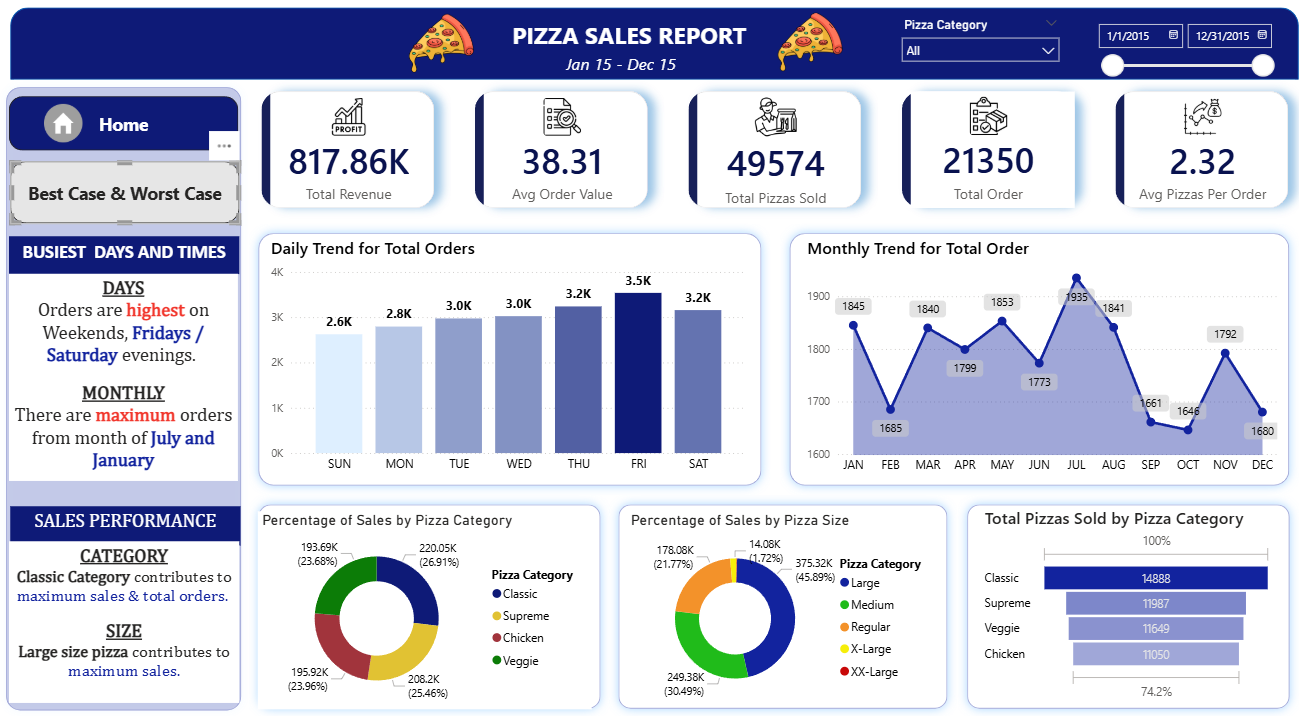

This screenshot's page, from the dashboard's own definition file:
{"tool":"powerbi","page":{"name":"Home","canvas":[1500,820],"ordinal":0},"visuals":[{"type":"cardVisual","fields":{"Data":["pizza_sales.Total Revenue","pizza_sales.Avg Order Value","pizza_sales.Total Pizzas Sold","pizza_sales.Total Order","pizza_sales.Avg Pizzas Per Order"]},"box":[276.2,80,1223.8,182.5],"z":0},{"type":"textbox","box":[12.8,578.6,262.9,45.1],"z":0,"group":"g1"},{"type":"shape","box":[12.5,8.8,1472.5,82.5],"z":1000},{"type":"textbox","box":[11.4,619.2,262.9,185.1],"z":1000,"group":"g1"},{"type":"textbox","box":[581,17.2,337.9,50],"z":2000},{"type":"textbox","box":[643.1,55.2,146.6,36.2],"z":3000},{"type":"image","box":[888.6,4.3,77.1,87.1],"z":4000},{"type":"shape","box":[285,255,596.2,310],"z":5000},{"type":"shape","box":[285,565,412.5,255],"z":6000},{"type":"columnChart","title":"Daily Trend for Total Orders","fields":{"Category":["pizza_sales.Order Day"],"Y":["pizza_sales.Total Order"]},"box":[305,270,553.8,280],"z":7000},{"type":"shape","box":[697.5,565,397.5,255],"z":8000},{"type":"shape","box":[892.5,255,592.5,310],"z":9000},{"type":"shape","box":[1095,565,390,255],"z":10000},{"type":"areaChart","title":"Monthly Trend for Total Order","fields":{"Category":["pizza_sales.Order Month"],"Y":["pizza_sales.Total Order"]},"box":[918.8,270,547.5,281.2],"z":11000},{"type":"donutChart","title":"Percentage of Sales by Pizza Category","fields":{"Category":["pizza_sales.pizza_category"],"Y":["pizza_sales.Total Revenue"]},"box":[296.2,583.8,381.2,226.2],"z":12000},{"type":"donutChart","title":"Percentage of Sales by Pizza Size","fields":{"Category":["pizza_sales.pizza_size"],"Y":["pizza_sales.Total Revenue"]},"box":[717.5,583.8,357.5,226.2],"z":13000},{"type":"funnel","title":"Total Pizzas Sold by Pizza Category","fields":{"Category":["pizza_sales.pizza_category"],"Y":["pizza_sales.Total Pizzas Sold"]},"box":[1121.2,578.8,338.8,226.2],"z":14000},{"type":"shape","box":[0,91.2,285,728.8],"z":15000},{"type":"textbox","box":[11.4,270,262.9,42.9],"z":16000},{"type":"textbox","box":[11.4,312.9,261.4,237.1],"z":17000},{"type":"group","id":"g1","title":"Group 1","box":[11.4,578.6,264.3,225.7],"z":18000},{"type":"slicer","fields":{"Values":["pizza_sales.pizza_category"]},"box":[1021.4,14.3,200,71.4],"z":19000},{"type":"slicer","fields":{"Values":["pizza_sales.order_date"]},"box":[1244.3,17.1,221.4,71.4],"z":20000},{"type":"pageNavigator","box":[11.4,110,262.9,62.9],"z":21000},{"type":"pageNavigator","box":[12.9,184.3,262.9,71.4],"z":22000},{"type":"image","box":[51.4,117.1,44.3,47.1],"z":23000},{"type":"image","box":[467.1,5.7,77.1,87.1],"z":23001}]}

Visuals, with their boxes in screenshot pixels (x1, y1, x2, y2), scaled from the page's 1500x820 canvas onto the 1299x716 screenshot:
cardVisual - pizza_sales.Total Revenue x pizza_sales.Avg Order Value: x1=239 y1=70 x2=1298 y2=229
textbox: x1=11 y1=505 x2=239 y2=545
shape: x1=11 y1=8 x2=1286 y2=80
textbox: x1=10 y1=541 x2=238 y2=702
textbox: x1=503 y1=15 x2=796 y2=59
textbox: x1=557 y1=48 x2=684 y2=80
image: x1=770 y1=4 x2=836 y2=80
shape: x1=247 y1=223 x2=763 y2=493
shape: x1=247 y1=493 x2=604 y2=715
"Daily Trend for Total Orders" columnChart: x1=264 y1=236 x2=744 y2=480
shape: x1=604 y1=493 x2=948 y2=715
shape: x1=773 y1=223 x2=1286 y2=493
shape: x1=948 y1=493 x2=1286 y2=715
"Monthly Trend for Total Order" areaChart: x1=796 y1=236 x2=1270 y2=481
"Percentage of Sales by Pizza Category" donutChart: x1=257 y1=510 x2=587 y2=707
"Percentage of Sales by Pizza Size" donutChart: x1=621 y1=510 x2=931 y2=707
"Total Pizzas Sold by Pizza Category" funnel: x1=971 y1=505 x2=1264 y2=703
shape: x1=0 y1=80 x2=247 y2=715
textbox: x1=10 y1=236 x2=238 y2=273
textbox: x1=10 y1=273 x2=236 y2=480
"Group 1" group: x1=10 y1=505 x2=239 y2=702
slicer - pizza_sales.pizza_category: x1=885 y1=12 x2=1058 y2=75
slicer - pizza_sales.order_date: x1=1078 y1=15 x2=1269 y2=77
pageNavigator: x1=10 y1=96 x2=238 y2=151
pageNavigator: x1=11 y1=161 x2=239 y2=223
image: x1=45 y1=102 x2=83 y2=143
image: x1=405 y1=5 x2=471 y2=81
